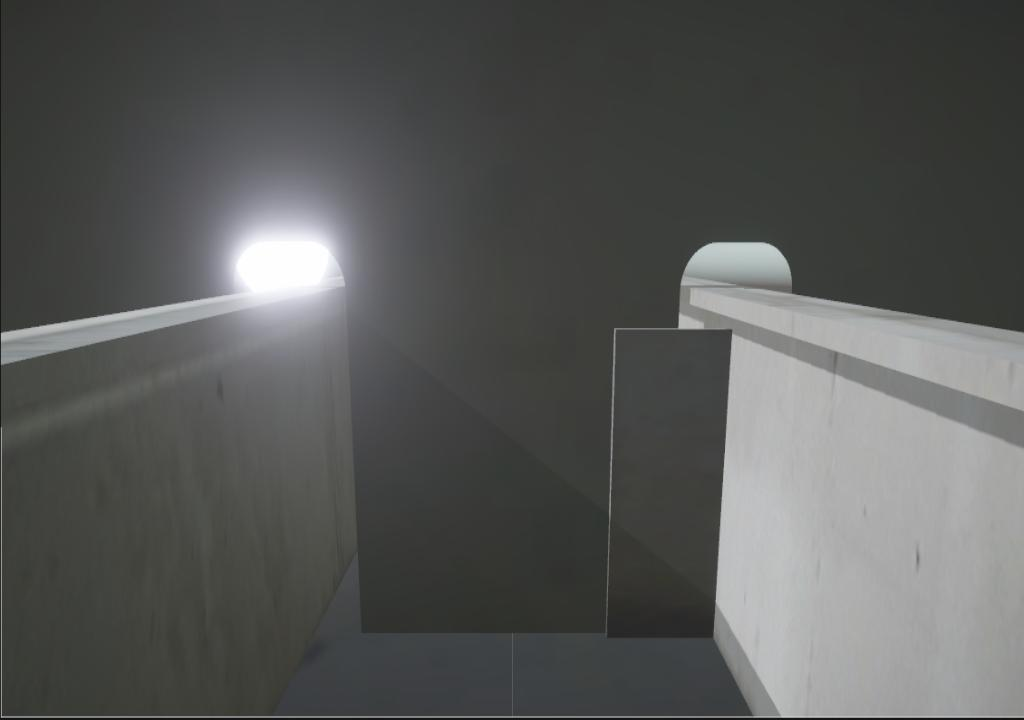fillet_yong_jeop_jang: (360, 618, 608, 649)
plate_CP01: (607, 328, 732, 644)
